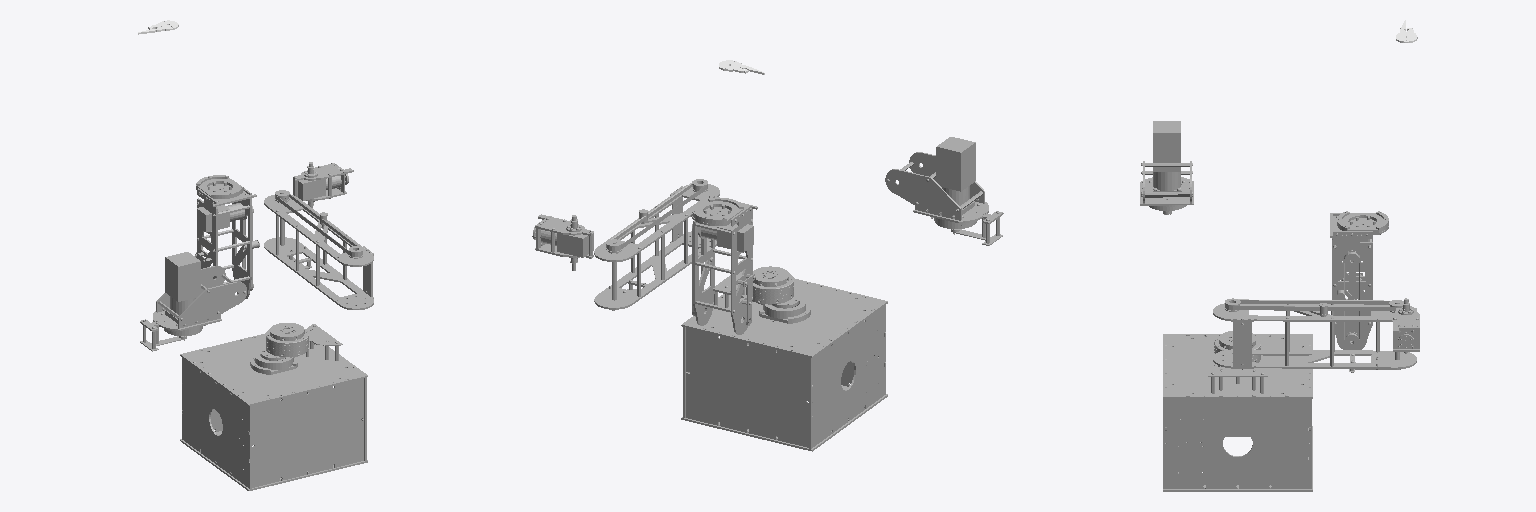
The robot description file, URDF, robot "urdf1":
<?xml version="1.0" encoding="utf-8"?>
<!-- This URDF was automatically created by SolidWorks to URDF Exporter! Originally created by [author] ([email redacted]) 
     Commit Version: 1.6.0-1-g15f4949  Build Version: 1.6.7594.29634
     For more information, please see http://wiki.ros.org/sw_urdf_exporter -->
<robot
  name="urdf1">
  <link
    name="base_link">
    <inertial>
      <origin
        xyz="-0.14899 0.15002 -0.0759"
        rpy="0 0 0" />
      <mass
        value="1.9822" />
      <inertia
        ixx="0.012049"
        ixy="1.1566E-08"
        ixz="1.8132E-07"
        iyy="0.011641"
        iyz="1.7455E-07"
        izz="0.016009" />
    </inertial>
    <visual>
      <origin
        xyz="0 0 0"
        rpy="0 0 0" />
      <geometry>
        <mesh
          filename="package://urdf1/meshes/base_link.STL" />
      </geometry>
      <material
        name="">
        <color
          rgba="0.75294 0.75294 0.75294 1" />
      </material>
    </visual>
    <collision>
      <origin
        xyz="0 0 0"
        rpy="0 0 0" />
      <geometry>
        <mesh
          filename="package://urdf1/meshes/base_link.STL" />
      </geometry>
    </collision>
  </link>
  <link
    name="link1">
    <inertial>
      <origin
        xyz="-0.0013865 0.15276 0.088653"
        rpy="0 0 0" />
      <mass
        value="1.3755" />
      <inertia
        ixx="0.0017311"
        ixy="4.6286E-06"
        ixz="5.0014E-06"
        iyy="0.002521"
        iyz="-0.00028073"
        izz="0.0030047" />
    </inertial>
    <visual>
      <origin
        xyz="0 0 0"
        rpy="0 0 0" />
      <geometry>
        <mesh
          filename="package://urdf1/meshes/link1.STL" />
      </geometry>
      <material
        name="">
        <color
          rgba="0.75294 0.75294 0.75294 1" />
      </material>
    </visual>
    <collision>
      <origin
        xyz="0 0 0"
        rpy="0 0 0" />
      <geometry>
        <mesh
          filename="package://urdf1/meshes/link1.STL" />
      </geometry>
    </collision>
  </link>
  <joint
    name="l1"
    type="revolute">
    <origin
      xyz="-0.15 0.15 0.0375"
      rpy="0 0 0" />
    <parent
      link="base_link" />
    <child
      link="link1" />
    <axis
      xyz="0 0 1" />
    <limit
      lower="0"
      upper="0"
      effort="0"
      velocity="0" />
  </joint>
  <link
    name="link2">
    <inertial>
      <origin
        xyz="0.17147 -0.0022525 0.01529"
        rpy="0 0 0" />
      <mass
        value="0.2987" />
      <inertia
        ixx="0.00017041"
        ixy="-5.2693E-06"
        ixz="-5.0333E-05"
        iyy="0.0029683"
        iyz="-9.2104E-08"
        izz="0.0030491" />
    </inertial>
    <visual>
      <origin
        xyz="0 0 0"
        rpy="0 0 0" />
      <geometry>
        <mesh
          filename="package://urdf1/meshes/link2.STL" />
      </geometry>
      <material
        name="">
        <color
          rgba="0.75294 0.75294 0.75294 1" />
      </material>
    </visual>
    <collision>
      <origin
        xyz="0 0 0"
        rpy="0 0 0" />
      <geometry>
        <mesh
          filename="package://urdf1/meshes/link2.STL" />
      </geometry>
    </collision>
  </link>
  <joint
    name="l2"
    type="revolute">
    <origin
      xyz="-0.0005 0.18 0.118"
      rpy="-1.5708 0 -1.5883" />
    <parent
      link="link1" />
    <child
      link="link2" />
    <axis
      xyz="-0.017477 0 0.99985" />
    <limit
      lower="0"
      upper="0"
      effort="0"
      velocity="0" />
  </joint>
  <link
    name="link3">
    <inertial>
      <origin
        xyz="-0.10081 -0.0057971 2.01E-06"
        rpy="0 0 0" />
      <mass
        value="0.69326" />
      <inertia
        ixx="0.00097315"
        ixy="-2.9051E-05"
        ixz="-6.3293E-09"
        iyy="0.0006427"
        iyz="7.8716E-09"
        izz="0.0011748" />
    </inertial>
    <visual>
      <origin
        xyz="0 0 0"
        rpy="0 0 0" />
      <geometry>
        <mesh
          filename="package://urdf1/meshes/link3.STL" />
      </geometry>
      <material
        name="">
        <color
          rgba="0.75294 0.75294 0.75294 1" />
      </material>
    </visual>
    <collision>
      <origin
        xyz="0 0 0"
        rpy="0 0 0" />
      <geometry>
        <mesh
          filename="package://urdf1/meshes/link3.STL" />
      </geometry>
    </collision>
  </link>
  <joint
    name="l3"
    type="revolute">
    <origin
      xyz="0.32995 0 0.0057674"
      rpy="3.1241 0.00010008 1.5765" />
    <parent
      link="link2" />
    <child
      link="link3" />
    <axis
      xyz="0 0 -1" />
    <limit
      lower="0"
      upper="0"
      effort="0"
      velocity="0" />
  </joint>
  <link
    name="link4">
    <inertial>
      <origin
        xyz="0.018808 -0.0020304 0.072716"
        rpy="0 0 0" />
      <mass
        value="0.43855" />
      <inertia
        ixx="0.00096859"
        ixy="-1.2408E-08"
        ixz="5.1704E-06"
        iyy="0.0009677"
        iyz="8.7228E-13"
        izz="0.00033754" />
    </inertial>
    <visual>
      <origin
        xyz="0 0 0"
        rpy="0 0 0" />
      <geometry>
        <mesh
          filename="package://urdf1/meshes/link4.STL" />
      </geometry>
      <material
        name="">
        <color
          rgba="0.75294 0.75294 0.75294 1" />
      </material>
    </visual>
    <collision>
      <origin
        xyz="0 0 0"
        rpy="0 0 0" />
      <geometry>
        <mesh
          filename="package://urdf1/meshes/link4.STL" />
      </geometry>
    </collision>
  </link>
  <joint
    name="l4"
    type="revolute">
    <origin
      xyz="-0.10547 -0.092097 0"
      rpy="1.5708 0 0.0057265" />
    <parent
      link="link3" />
    <child
      link="link4" />
    <axis
      xyz="0 0 -1" />
    <limit
      lower="0"
      upper="0"
      effort="0"
      velocity="0" />
  </joint>
  <link
    name="link5">
    <inertial>
      <origin
        xyz="-7.4642E-05 0.018439 -0.001988"
        rpy="0 0 0" />
      <mass
        value="0.2392" />
      <inertia
        ixx="0.00018859"
        ixy="9.6096E-07"
        ixz="1.4516E-09"
        iyy="5.6612E-05"
        iyz="1.1347E-08"
        izz="0.00020112" />
    </inertial>
    <visual>
      <origin
        xyz="0 0 0"
        rpy="0 0 0" />
      <geometry>
        <mesh
          filename="package://urdf1/meshes/link5.STL" />
      </geometry>
      <material
        name="">
        <color
          rgba="0.75294 0.75294 0.75294 1" />
      </material>
    </visual>
    <collision>
      <origin
        xyz="0 0 0"
        rpy="0 0 0" />
      <geometry>
        <mesh
          filename="package://urdf1/meshes/link5.STL" />
      </geometry>
    </collision>
  </link>
  <joint
    name="l5"
    type="revolute">
    <origin
      xyz="0.02185 0 0.224"
      rpy="1.5708 -1.5708 0" />
    <parent
      link="link4" />
    <child
      link="link5" />
    <axis
      xyz="0 0 1" />
    <limit
      lower="0"
      upper="0"
      effort="0"
      velocity="0" />
  </joint>
  <link
    name="link6">
    <inertial>
      <origin
        xyz="-0.017164 -0.00018833 0.020914"
        rpy="0 0 0" />
      <mass
        value="0.021655" />
      <inertia
        ixx="6.5964E-06"
        ixy="-1.7068E-07"
        ixz="4.6615E-22"
        iyy="1.0789E-05"
        iyz="-8.5775E-21"
        izz="7.0208E-06" />
    </inertial>
    <visual>
      <origin
        xyz="0 0 0"
        rpy="0 0 0" />
      <geometry>
        <mesh
          filename="package://urdf1/meshes/link6.STL" />
      </geometry>
      <material
        name="">
        <color
          rgba="0.75294 0.75294 0.75294 1" />
      </material>
    </visual>
    <collision>
      <origin
        xyz="0 0 0"
        rpy="0 0 0" />
      <geometry>
        <mesh
          filename="package://urdf1/meshes/link6.STL" />
      </geometry>
    </collision>
  </link>
  <joint
    name="l6"
    type="revolute">
    <origin
      xyz="0 0.086 0"
      rpy="1.5708 -1.5708 0" />
    <parent
      link="link5" />
    <child
      link="link6" />
    <axis
      xyz="0 0 1" />
    <limit
      lower="0"
      upper="0"
      effort="0"
      velocity="0" />
  </joint>
  <link
    name="gripper">
    <inertial>
      <origin
        xyz="-0.00053725 -0.06479 0.002"
        rpy="0 0 0" />
      <mass
        value="0.008813" />
      <inertia
        ixx="4.3239E-06"
        ixy="-1.7068E-07"
        ixz="1.1068E-23"
        iyy="9.1247E-07"
        iyz="7.5051E-22"
        izz="5.2128E-06" />
    </inertial>
    <visual>
      <origin
        xyz="0 0 0"
        rpy="0 0 0" />
      <geometry>
        <mesh
          filename="package://urdf1/meshes/gripper.STL" />
      </geometry>
      <material
        name="">
        <color
          rgba="1 1 1 1" />
      </material>
    </visual>
    <collision>
      <origin
        xyz="0 0 0"
        rpy="0 0 0" />
      <geometry>
        <mesh
          filename="package://urdf1/meshes/gripper.STL" />
      </geometry>
    </collision>
  </link>
  <joint
    name="g"
    type="fixed">
    <origin
      xyz="-0.078254 -0.001 0.004"
      rpy="-3.1416 0 -1.5708" />
    <parent
      link="link6" />
    <child
      link="gripper" />
    <axis
      xyz="0 0 0" />
  </joint>
</robot>

--- What the picture shows (computed from the rendered views, not written in the file) ---
The picture shows the robot from 3 angles, left to right: view 1: azimuth 30°, elevation 25°; view 2: azimuth 150°, elevation 25°; view 3: azimuth 270°, elevation 25°; orthographic projection.
Robot: urdf1 — 8 links, 7 joints (6 revolute, 1 fixed); root link base_link; default pose: all joints at 0.
Visible links, largest first — view 1: base_link, link2, link3, link4, link5, link1; view 2: base_link, link3, link2, link4, link5, link1; view 3: base_link, link2, link4, link3, link5.
Boxes of the visible links, x1,y1,x2,y2 form: base_link: (180, 324, 367, 490); link2: (264, 190, 373, 309); link3: (140, 252, 246, 351); link4: (195, 175, 259, 298); link5: (293, 162, 353, 207); link1: (266, 323, 308, 360); base_link: (681, 271, 887, 451); link3: (885, 137, 1003, 245); link2: (594, 179, 719, 310); link4: (691, 195, 757, 334); link5: (532, 214, 593, 270); link1: (746, 266, 793, 305); base_link: (1163, 334, 1312, 491); link2: (1213, 298, 1416, 372); link4: (1330, 211, 1388, 349); link3: (1140, 121, 1193, 214); link5: (1393, 298, 1419, 353).
Size in the robot's own frame: 0.7817 by 0.5599 by 0.9042 metres.
Meshes: 8 distinct files referenced, 7 mesh visuals loaded (7 binary STL); not drawn: 1 (reference not matched to a file when rendering).
